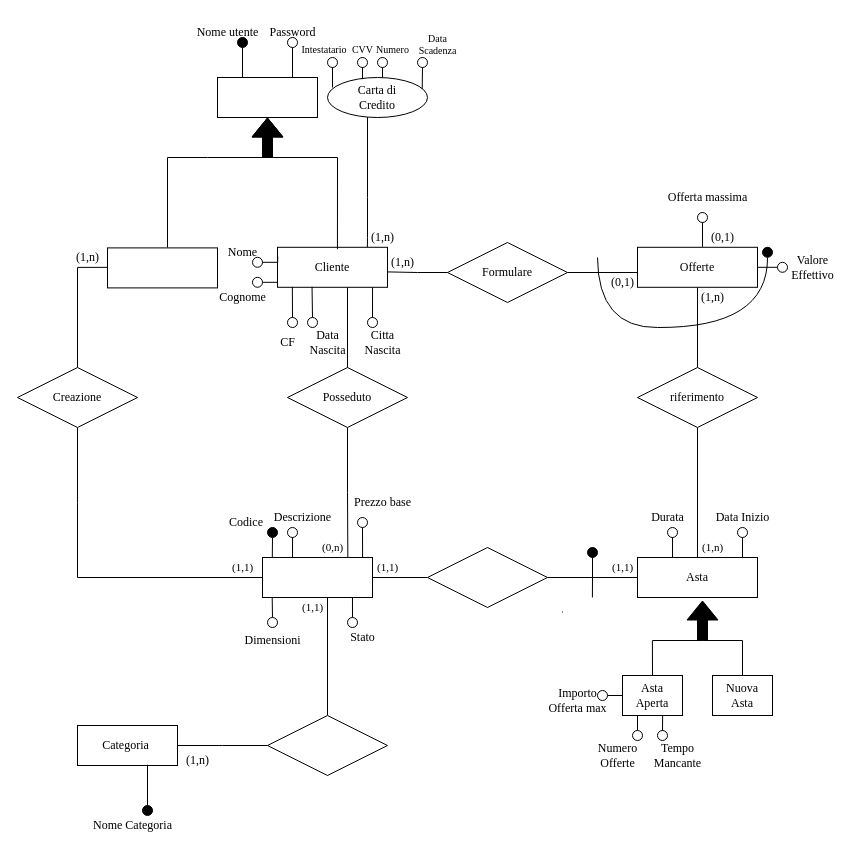
The diagram is 865 pixels wide and 857 high, and some of its shapes have lost their labels. Each missing label, with the centre of its shape:
Amministratore: pixel 162 267
Appartenenza: pixel 327 745
Oggetto: pixel 317 577
Relativa: pixel 487 577
Utente: pixel 267 97
